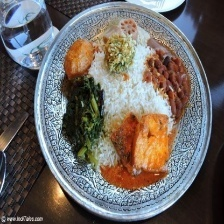rice: (98, 68, 171, 122)
